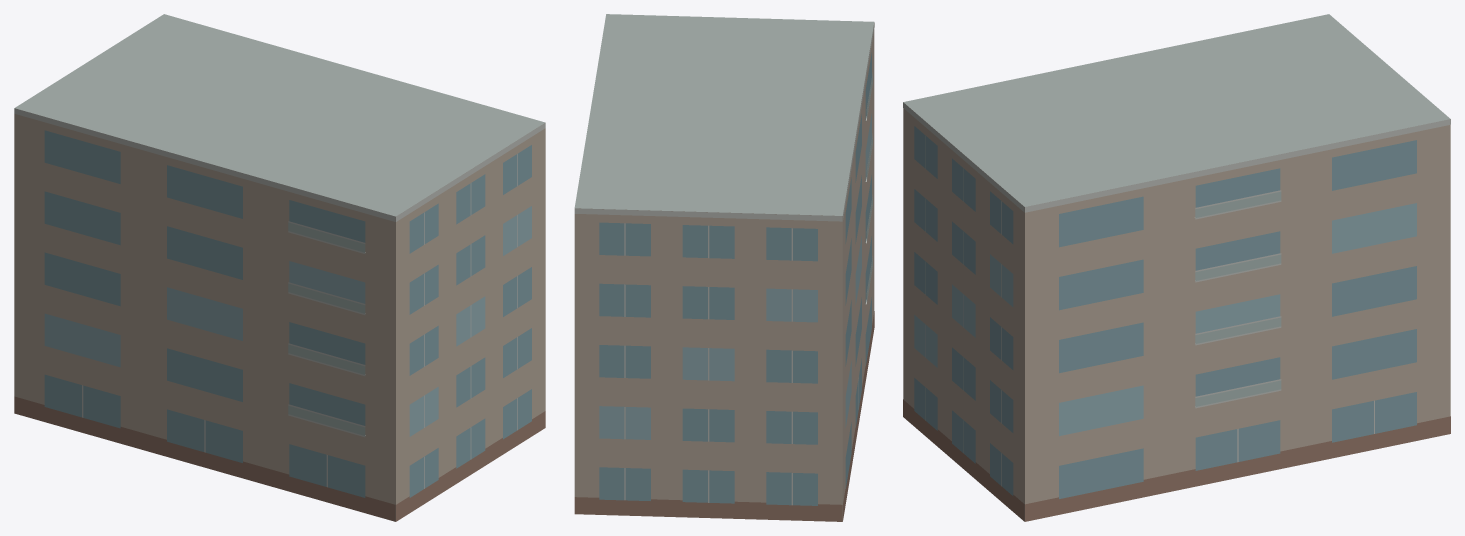
The model's file is survey-upis-32702426.glb.
3 renders of one model, left to right at view 1: azimuth 30°, elevation 25°; view 2: azimuth 150°, elevation 25°; view 3: azimuth 270°, elevation 25°, orthographic. The views are drawn at different scales.
Parts seen in each view (by area): view 1: survey-upis-32702426.tmp; view 2: survey-upis-32702426.tmp; view 3: survey-upis-32702426.tmp.
Boxes of the visible parts, bbox=[...] form: survey-upis-32702426.tmp: bbox=[14, 14, 545, 521]; survey-upis-32702426.tmp: bbox=[574, 14, 874, 521]; survey-upis-32702426.tmp: bbox=[903, 14, 1450, 521].
Size of the model in its own units: 17.7 by 13.45 by 21.22.
